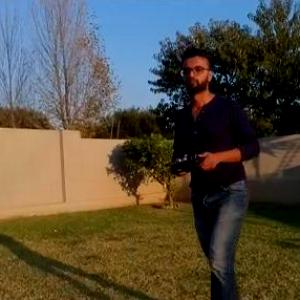follow: (170, 34, 274, 299)
